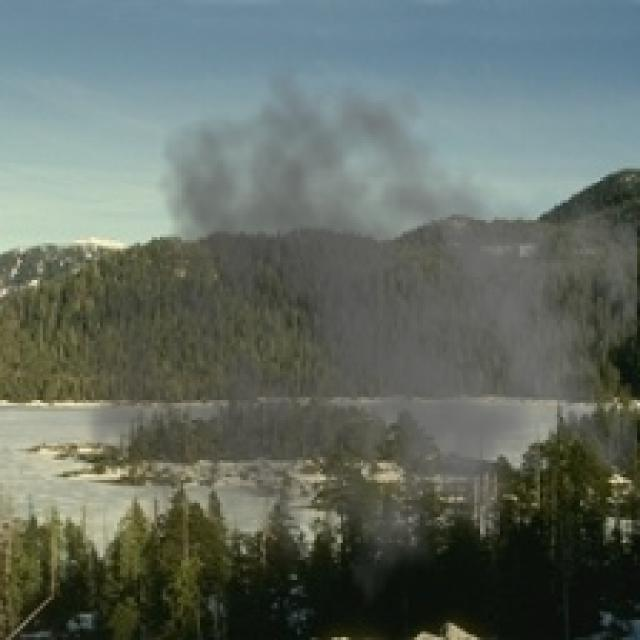Smoke: (77, 63, 637, 632)
